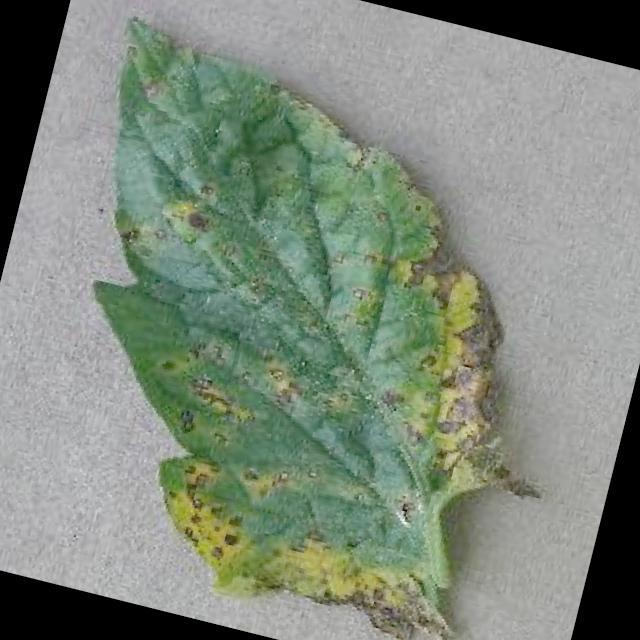Tomato Early blight leaf: (0, 9, 616, 640)
